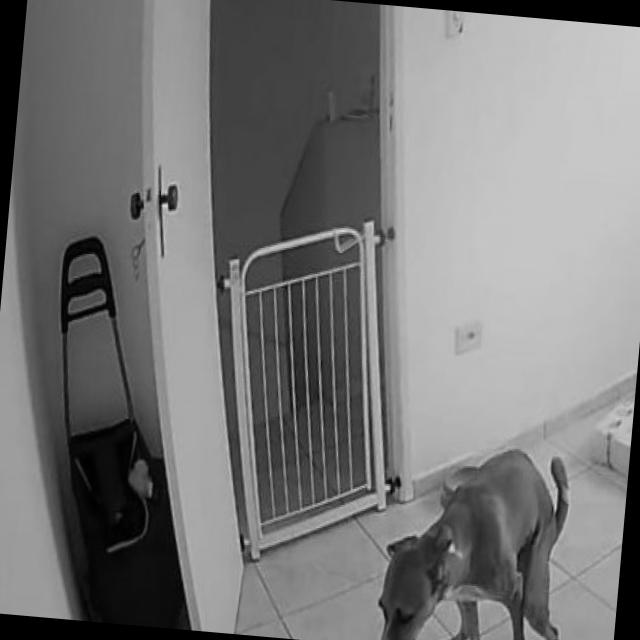squatting: (360, 422, 601, 640)
